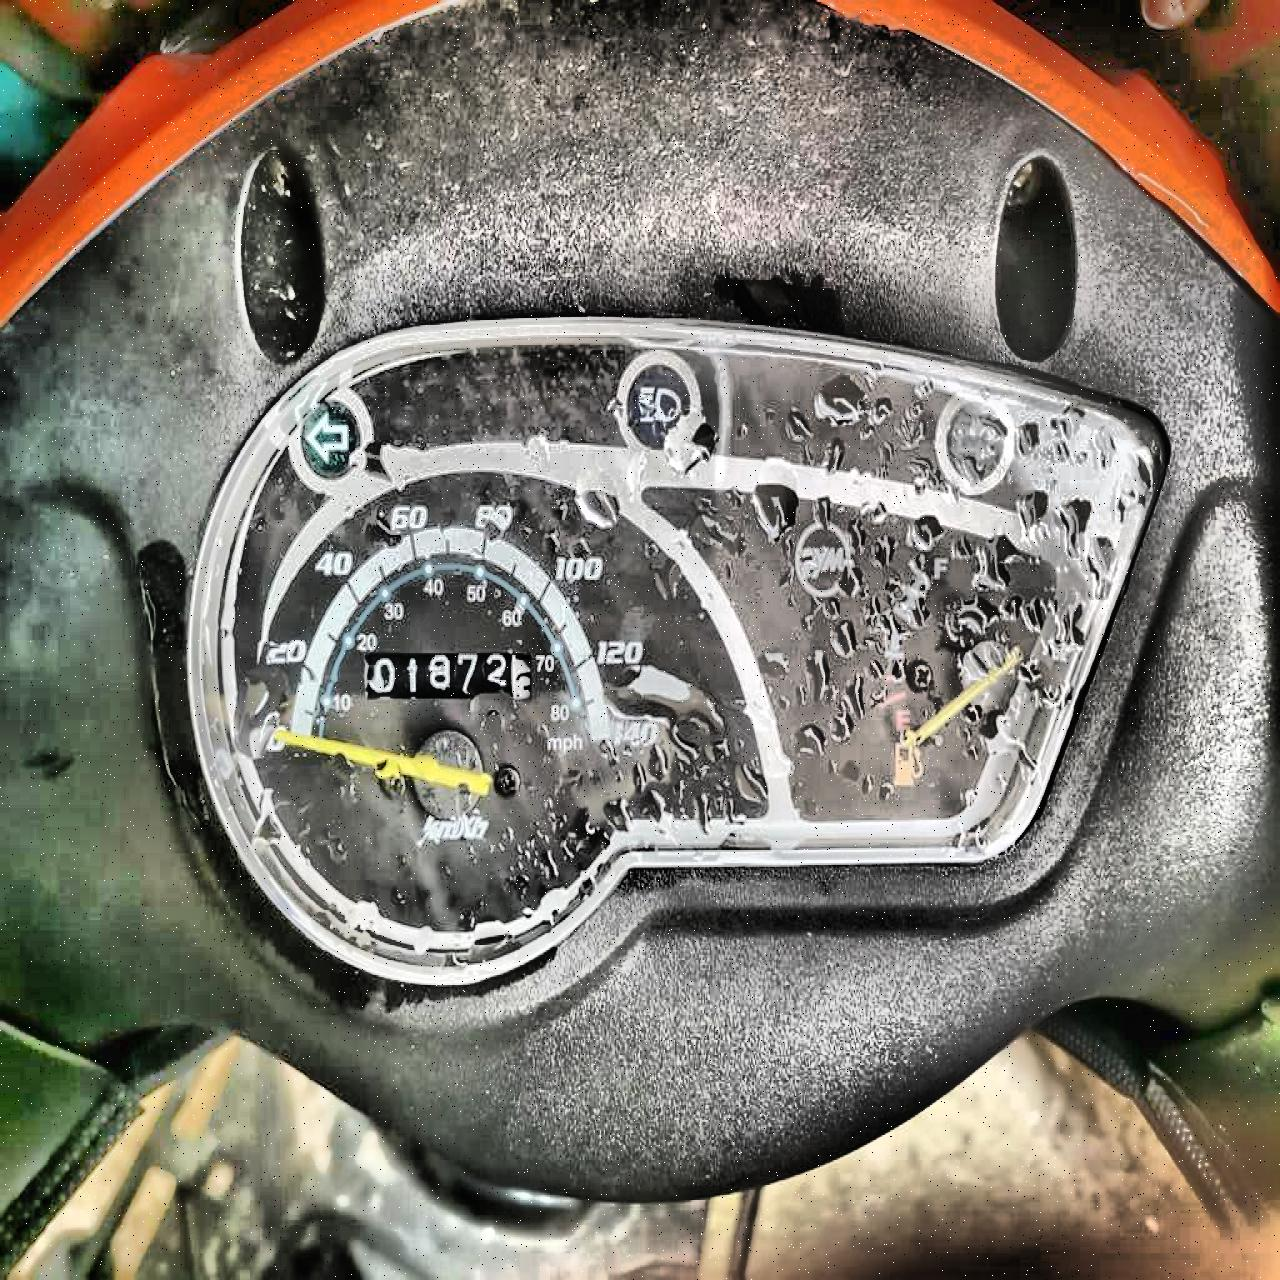0: (373, 656, 394, 692)
1: (406, 655, 416, 692)
2: (485, 652, 506, 687)
3: (513, 670, 531, 700)
7: (456, 652, 476, 692)
8: (428, 654, 450, 688)
odometer: (362, 648, 532, 700)
